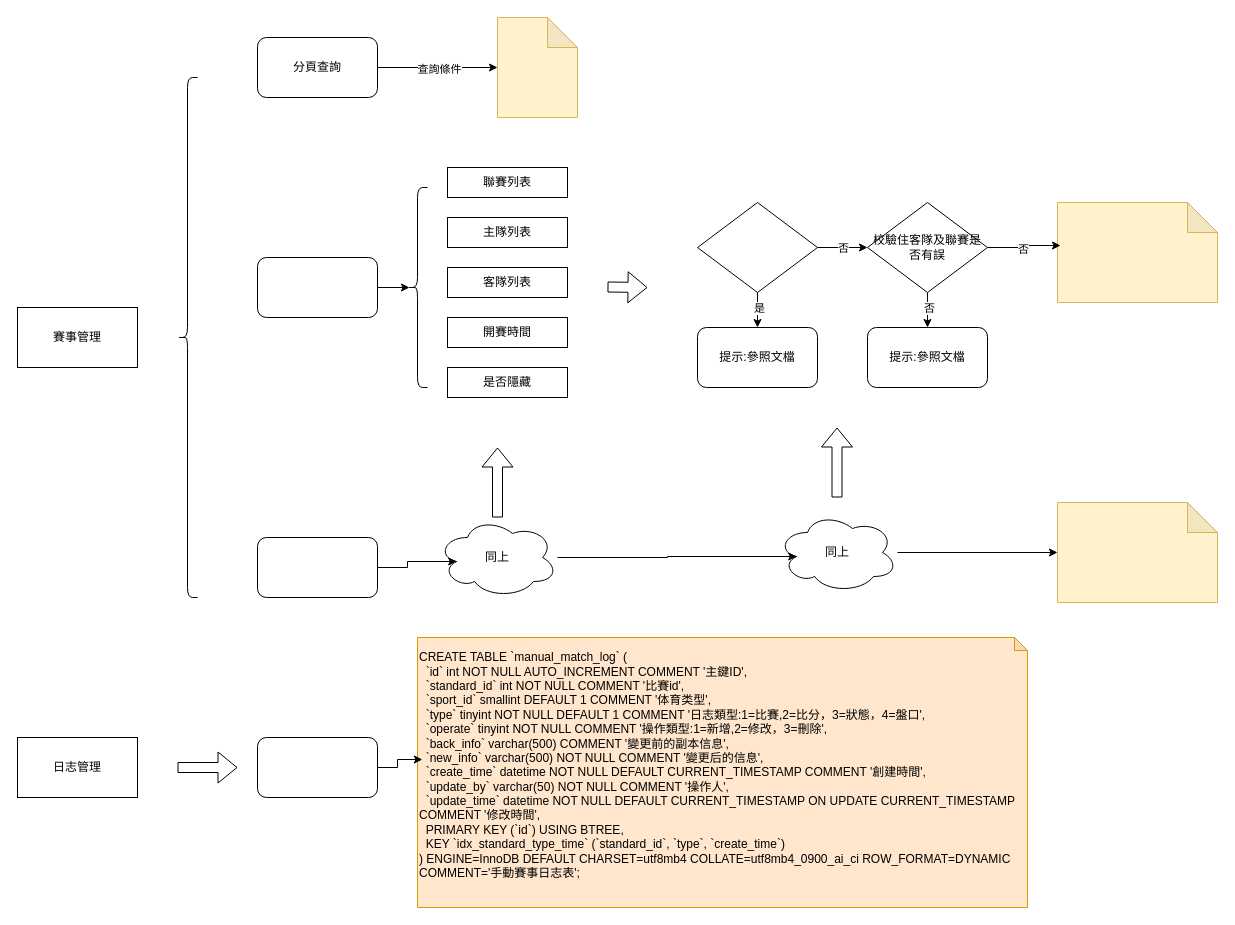
Image size: 1235x925. Some labels were removed from this diagram. The shapes that lost their labels are listed below. From the top down, each one's centre as x and y in pixels, then its label:
At pixel 537 67: "1.球種 2.日期 3.國家/地區 4.聯賽 5.比賽ID 6.球隊名".
At pixel 757 247: "是否存在主客隊一致，且開賽時間相同的比賽".
At pixel 1137 252: "1.生成標準比賽ID 2.生成B源三方比賽ID 3.填充三方比賽主客隊及聯賽 4.打上手動賽事標識 5.下發賽事通知給下游".
At pixel 317 287: "新增賽事".
At pixel 317 567: "編輯賽事".
At pixel 1137 552: "1.修改三方比賽主客隊及聯賽 2.下發賽事變更通知給下游".
At pixel 317 767: "新增日志表".
